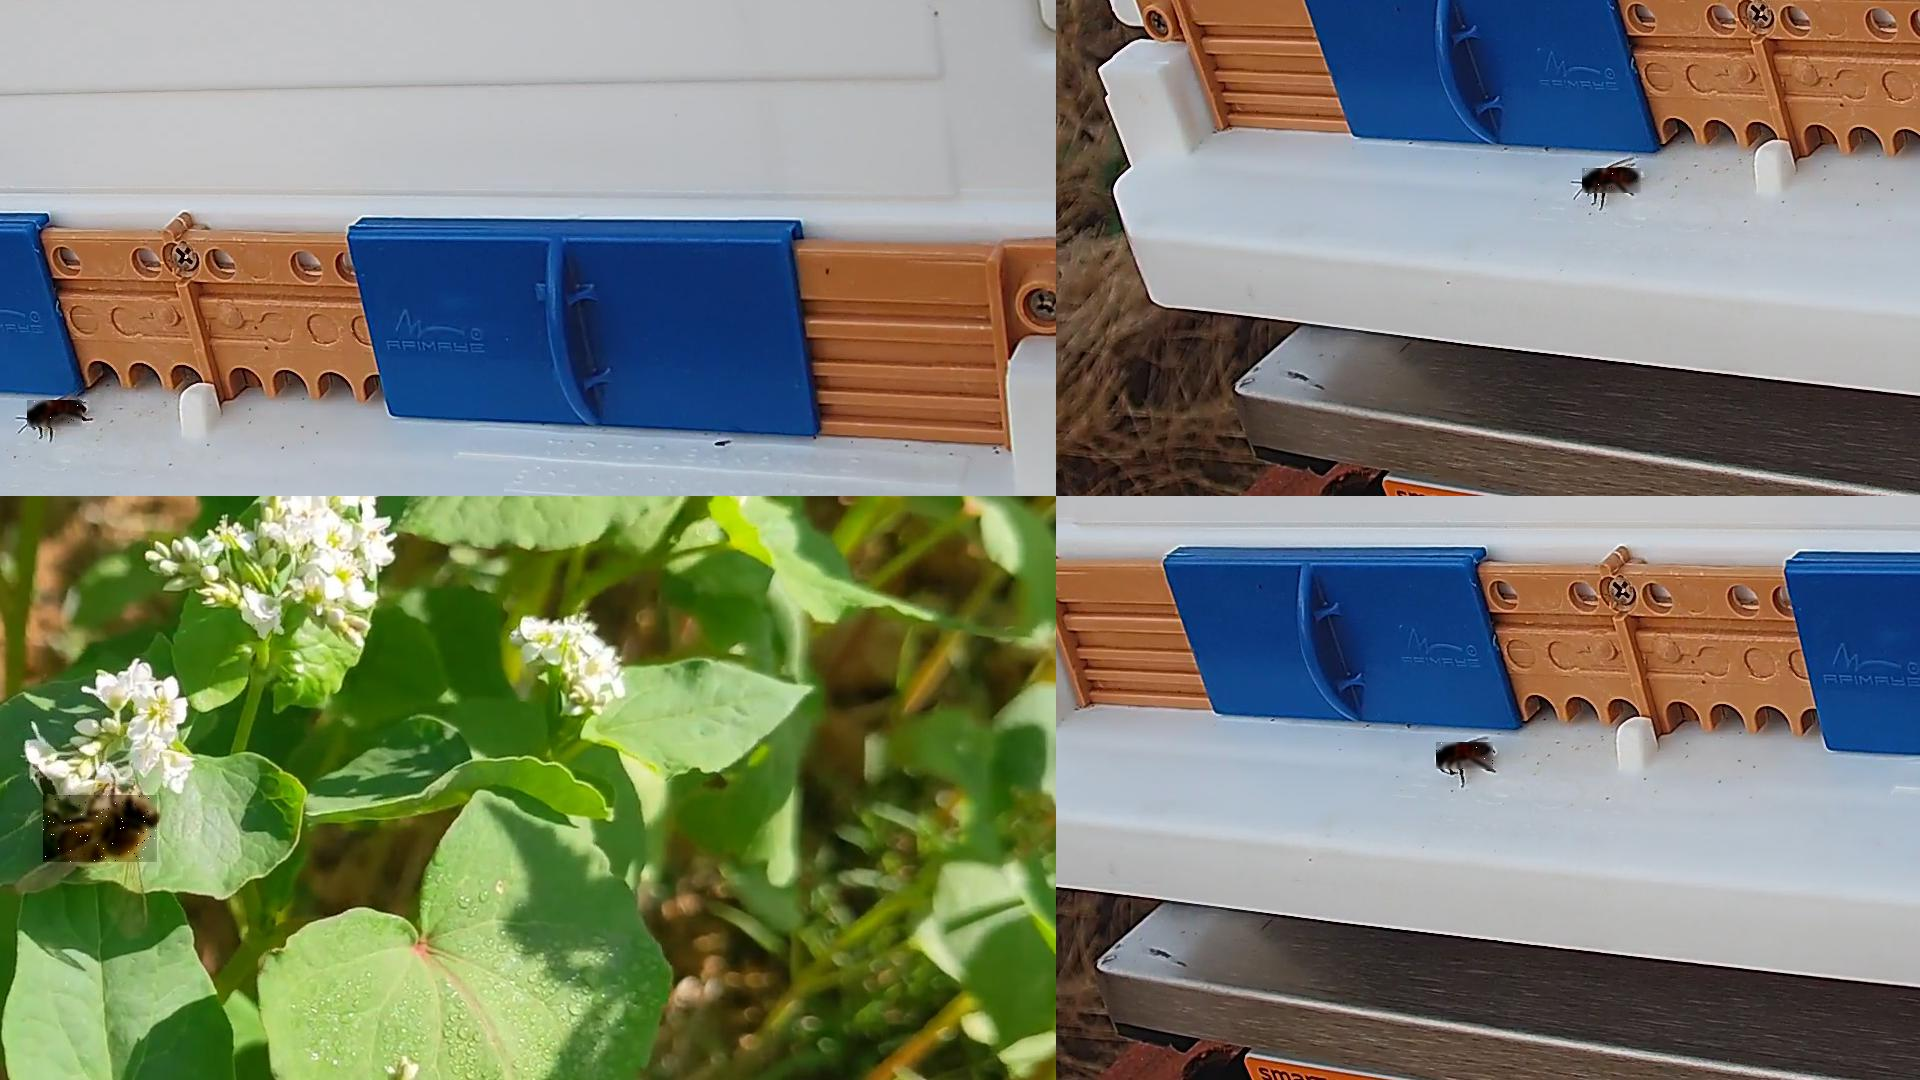bee: (44, 795, 158, 864), (1437, 742, 1495, 771), (28, 401, 84, 430), (1582, 169, 1644, 194)
